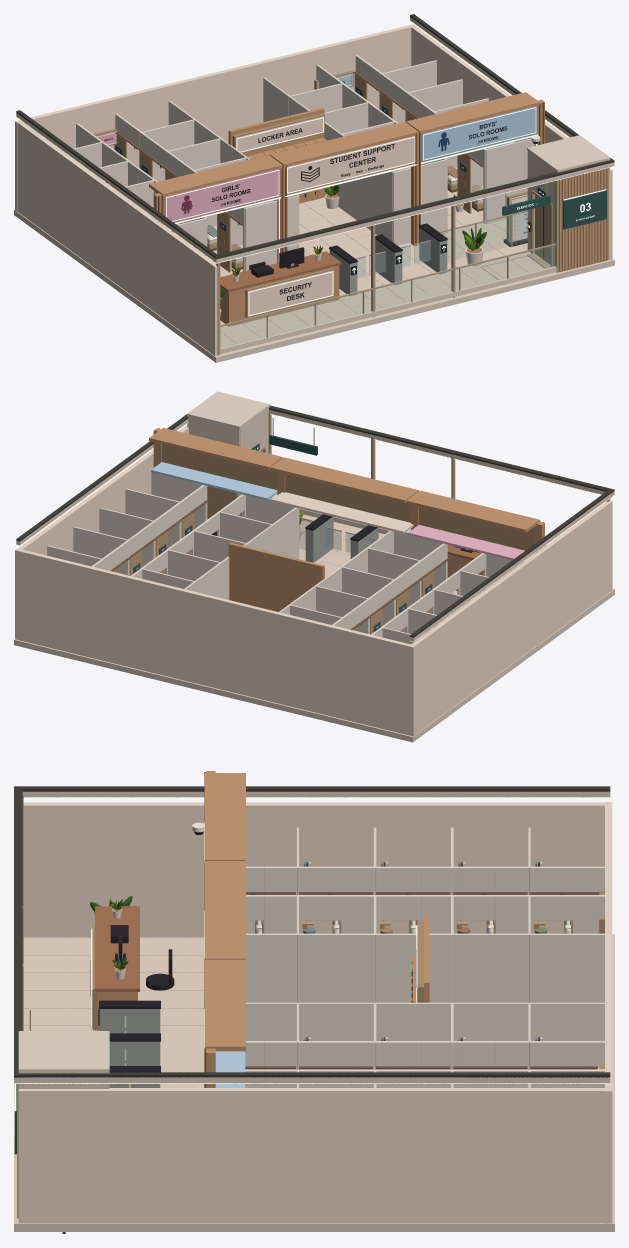
File: Level_03.glb
The picture shows the model from 3 angles, top to bottom: view 1: azimuth 30°, elevation 25°; view 2: azimuth 150°, elevation 25°; view 3: azimuth 270°, elevation 25°; orthographic projection. The views are drawn at different scales.
Parts seen in each view (by area): view 1: Tiled third-floor slab and perimeter, Illuminated lobby portals and wayfinding, Facade | fluted tower, floor marker and cornice, Gallery frontage | glazed parapet, Security reception and monitor, Aligned elevator | landing doors and well, Floor plate | lift well opening, B01 | room and sliding door, Two glazed access lanes, Central bank of 36 secure lockers, B06 | room and sliding door, G01 | room and sliding door (+18 smaller); view 2: Tiled third-floor slab and perimeter, Illuminated lobby portals and wayfinding, Facade | fluted tower, floor marker and cornice, Central bank of 36 secure lockers, Floor plate | lift well opening, Aligned elevator | landing doors and well, G02 | room and sliding door, G03 | room and sliding door, B01 | room and sliding door, G01 | room and sliding door, B07 | room and sliding door, B08 | room and sliding door (+17 smaller); view 3: Tiled third-floor slab and perimeter, Facade | fluted tower, floor marker and cornice, Illuminated lobby portals and wayfinding, G02 | room and sliding door, G04 | room and sliding door, G05 | room and sliding door, Floor plate | lift well opening, G03 | room and sliding door, G01 | room and sliding door, B02 | room and sliding door, B03 | room and sliding door, B04 | room and sliding door (+14 smaller).
Boxes of the visible parts, <box> form: Tiled third-floor slab and perimeter: <box>15,24,612,356</box>; Illuminated lobby portals and wayfinding: <box>149,92,544,263</box>; Facade | fluted tower, floor marker and cornice: <box>16,14,614,355</box>; Gallery frontage | glazed parapet: <box>219,243,556,353</box>; Security reception and monitor: <box>220,247,341,326</box>; Aligned elevator | landing doors and well: <box>527,135,610,272</box>; Floor plate | lift well opening: <box>14,209,614,362</box>; B01 | room and sliding door: <box>366,158,449,245</box>; Two glazed access lanes: <box>329,223,447,296</box>; Central bank of 36 secure lockers: <box>228,107,326,203</box>; B06 | room and sliding door: <box>458,138,534,223</box>; G01 | room and sliding door: <box>217,194,299,272</box>; Tiled third-floor slab and perimeter: <box>15,425,612,736</box>; Illuminated lobby portals and wayfinding: <box>149,428,544,562</box>; Facade | fluted tower, floor marker and cornice: <box>16,405,614,641</box>; Central bank of 36 secure lockers: <box>228,542,324,611</box>; Floor plate | lift well opening: <box>14,513,614,742</box>; Aligned elevator | landing doors and well: <box>187,391,270,516</box>; G02 | room and sliding door: <box>341,547,423,632</box>; G03 | room and sliding door: <box>315,566,397,634</box>; B01 | room and sliding door: <box>219,494,299,558</box>; G01 | room and sliding door: <box>367,530,449,613</box>; B07 | room and sliding door: <box>125,488,182,573</box>; B08 | room and sliding door: <box>99,507,156,575</box>; Tiled third-floor slab and perimeter: <box>18,802,612,1223</box>; Facade | fluted tower, floor marker and cornice: <box>14,786,610,1218</box>; Illuminated lobby portals and wayfinding: <box>204,771,245,1087</box>; G02 | room and sliding door: <box>296,895,374,1002</box>; G04 | room and sliding door: <box>451,895,529,1002</box>; G05 | room and sliding door: <box>528,895,604,1002</box>; Floor plate | lift well opening: <box>14,934,614,1231</box>; G03 | room and sliding door: <box>373,895,452,1002</box>; G01 | room and sliding door: <box>246,895,297,1002</box>; B02 | room and sliding door: <box>296,1002,374,1069</box>; B03 | room and sliding door: <box>373,1002,452,1069</box>; B04 | room and sliding door: <box>451,1002,529,1069</box>.
Bounding box in the file's own units: 16.42 × 4.85 × 14.4.
51 materials, 11 textured.
